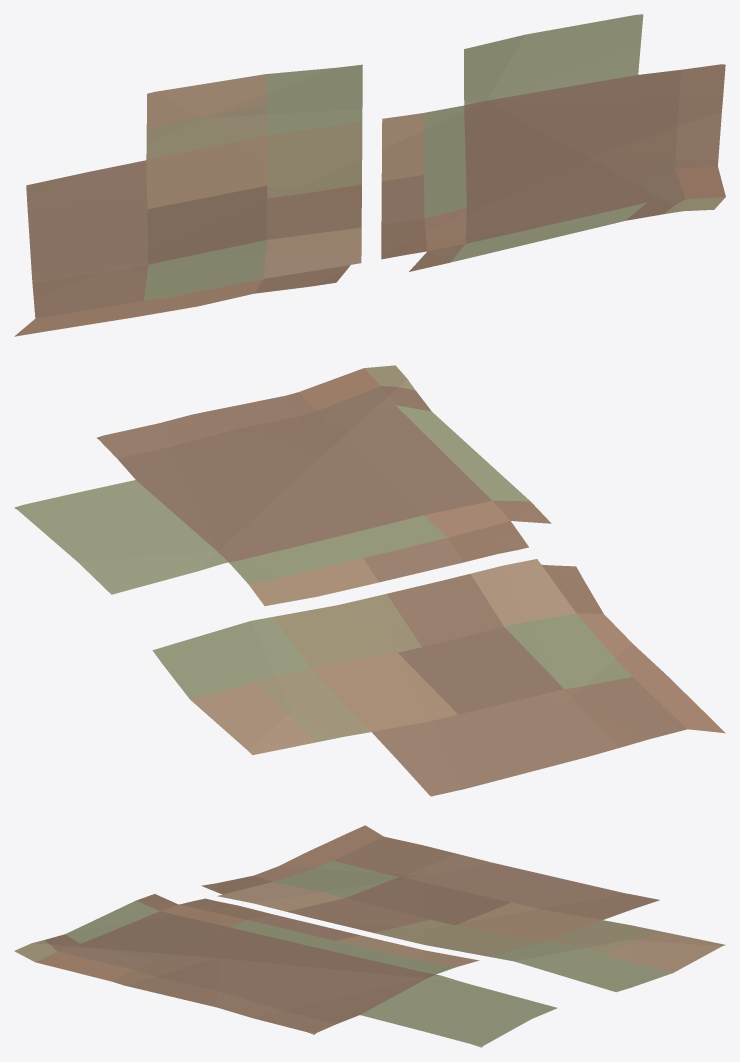
File: farm_-30_-33_soil.glb
The picture shows the model from 3 angles, top to bottom: view 1: azimuth 30°, elevation 25°; view 2: azimuth 150°, elevation 25°; view 3: azimuth 270°, elevation 25°; orthographic projection. The views are drawn at different scales.
Visible parts, largest first — view 1: geometry_0; view 2: geometry_0; view 3: geometry_0.
Part boxes in pixels (x1,y1,x2,y2): geometry_0: (14,14,725,336); geometry_0: (14,365,725,796); geometry_0: (14,825,725,1047).
Bounding box in the file's own units: 305 × 54.56 × 276.
